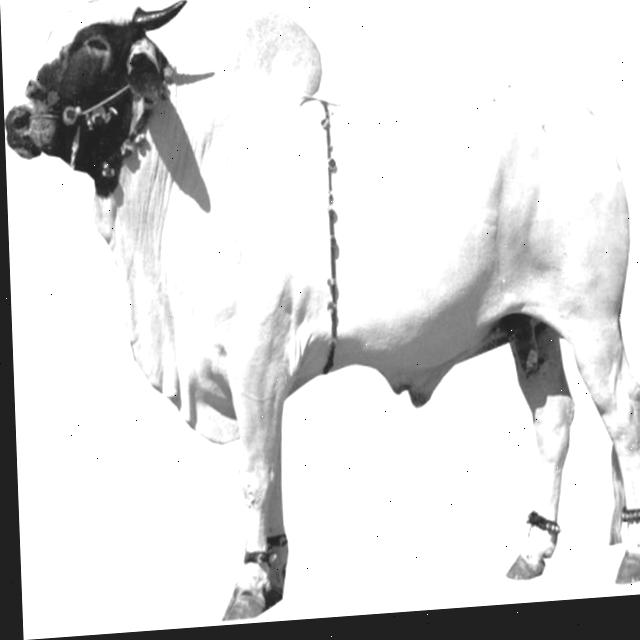Cow: (1, 0, 640, 635)
